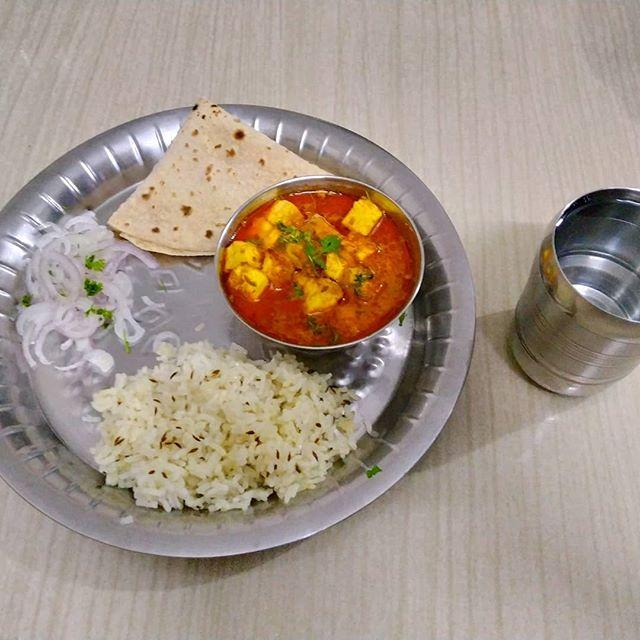Roti: (111, 102, 346, 249)
White Rice: (77, 346, 384, 519)
